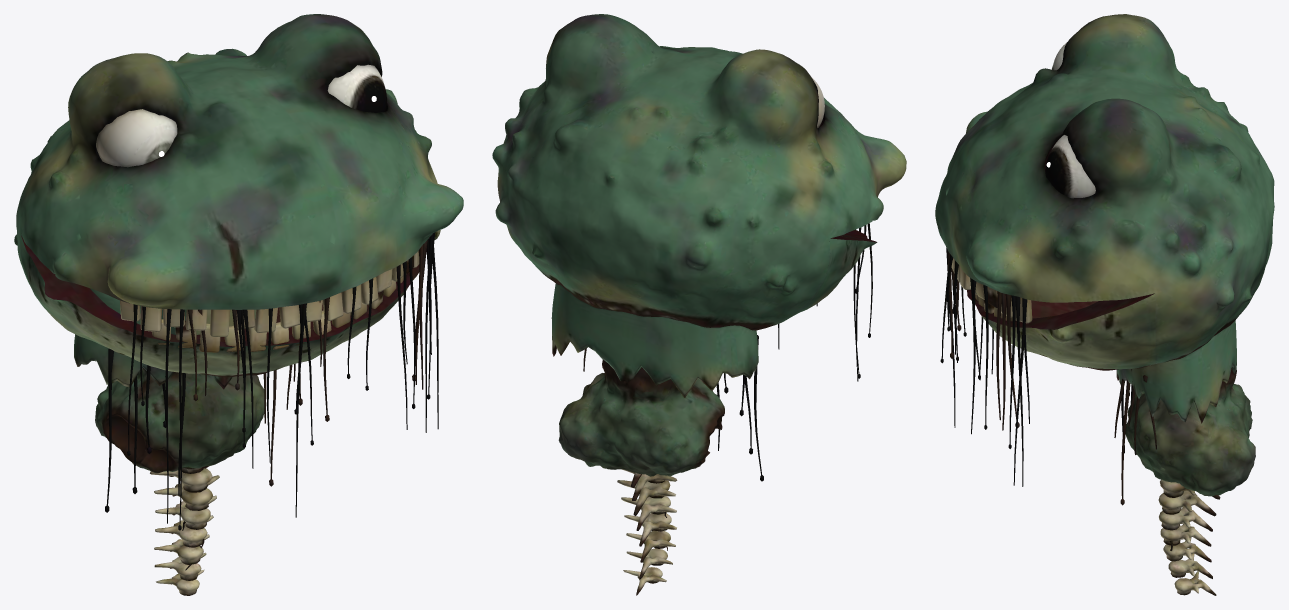
File: toad_2.glb
3 renders of one model, left to right at view 1: azimuth 30°, elevation 25°; view 2: azimuth 150°, elevation 25°; view 3: azimuth 270°, elevation 25°, orthographic. The views are drawn at different scales.
Visible parts, largest first — view 1: head, jaw, body, eye_R, extra_1, eye_L, sway_1, sway_9, sway_4, sway_2, sway_5, extra_1_3 (+6 smaller); view 2: head, body, jaw, extra_1, extra_1_3, extra_1_4, sway_1, sway_9; view 3: head, body, jaw, eye_L, extra_1, sway_5, sway_8, sway_4, extra_1_3, extra_1_4, sway_10, sway_3 (+1 smaller).
Part boxes in pixels (bbox=[...]): head: bbox=[14, 14, 463, 389]; jaw: bbox=[20, 230, 440, 377]; body: bbox=[95, 368, 266, 473]; eye_R: bbox=[96, 109, 177, 167]; extra_1: bbox=[150, 467, 219, 529]; eye_L: bbox=[327, 64, 386, 112]; sway_1: bbox=[127, 304, 184, 530]; sway_9: bbox=[105, 348, 185, 512]; sway_4: bbox=[365, 257, 415, 429]; sway_2: bbox=[237, 308, 272, 468]; sway_5: bbox=[425, 232, 438, 432]; extra_1_3: bbox=[154, 515, 213, 564]; head: bbox=[492, 14, 906, 397]; body: bbox=[558, 359, 724, 476]; jaw: bbox=[790, 230, 877, 317]; extra_1: bbox=[617, 469, 677, 530]; extra_1_3: bbox=[624, 513, 676, 562]; extra_1_4: bbox=[623, 548, 672, 595]; sway_1: bbox=[853, 223, 872, 381]; sway_9: bbox=[716, 335, 763, 481]; head: bbox=[935, 14, 1274, 423]; body: bbox=[1125, 368, 1255, 496]; jaw: bbox=[967, 290, 1155, 370]; eye_L: bbox=[1045, 135, 1095, 198]; extra_1: bbox=[1158, 479, 1220, 531]; sway_5: bbox=[1008, 295, 1029, 486]; sway_8: bbox=[996, 291, 1019, 430]; sway_4: bbox=[953, 260, 988, 434]; extra_1_3: bbox=[1160, 523, 1211, 562]; extra_1_4: bbox=[1168, 553, 1216, 595]; sway_10: bbox=[1114, 369, 1156, 505]; sway_3: bbox=[940, 247, 955, 427].
Size of the model in its own units: 1.52 by 2.2 by 1.26.
2 materials, 1 textured.
